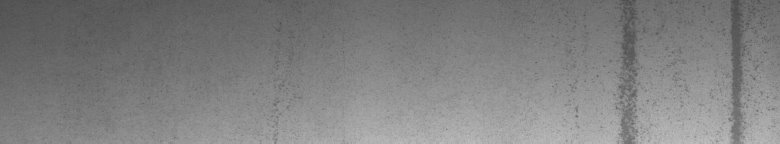hd: (565, 4, 776, 136)
